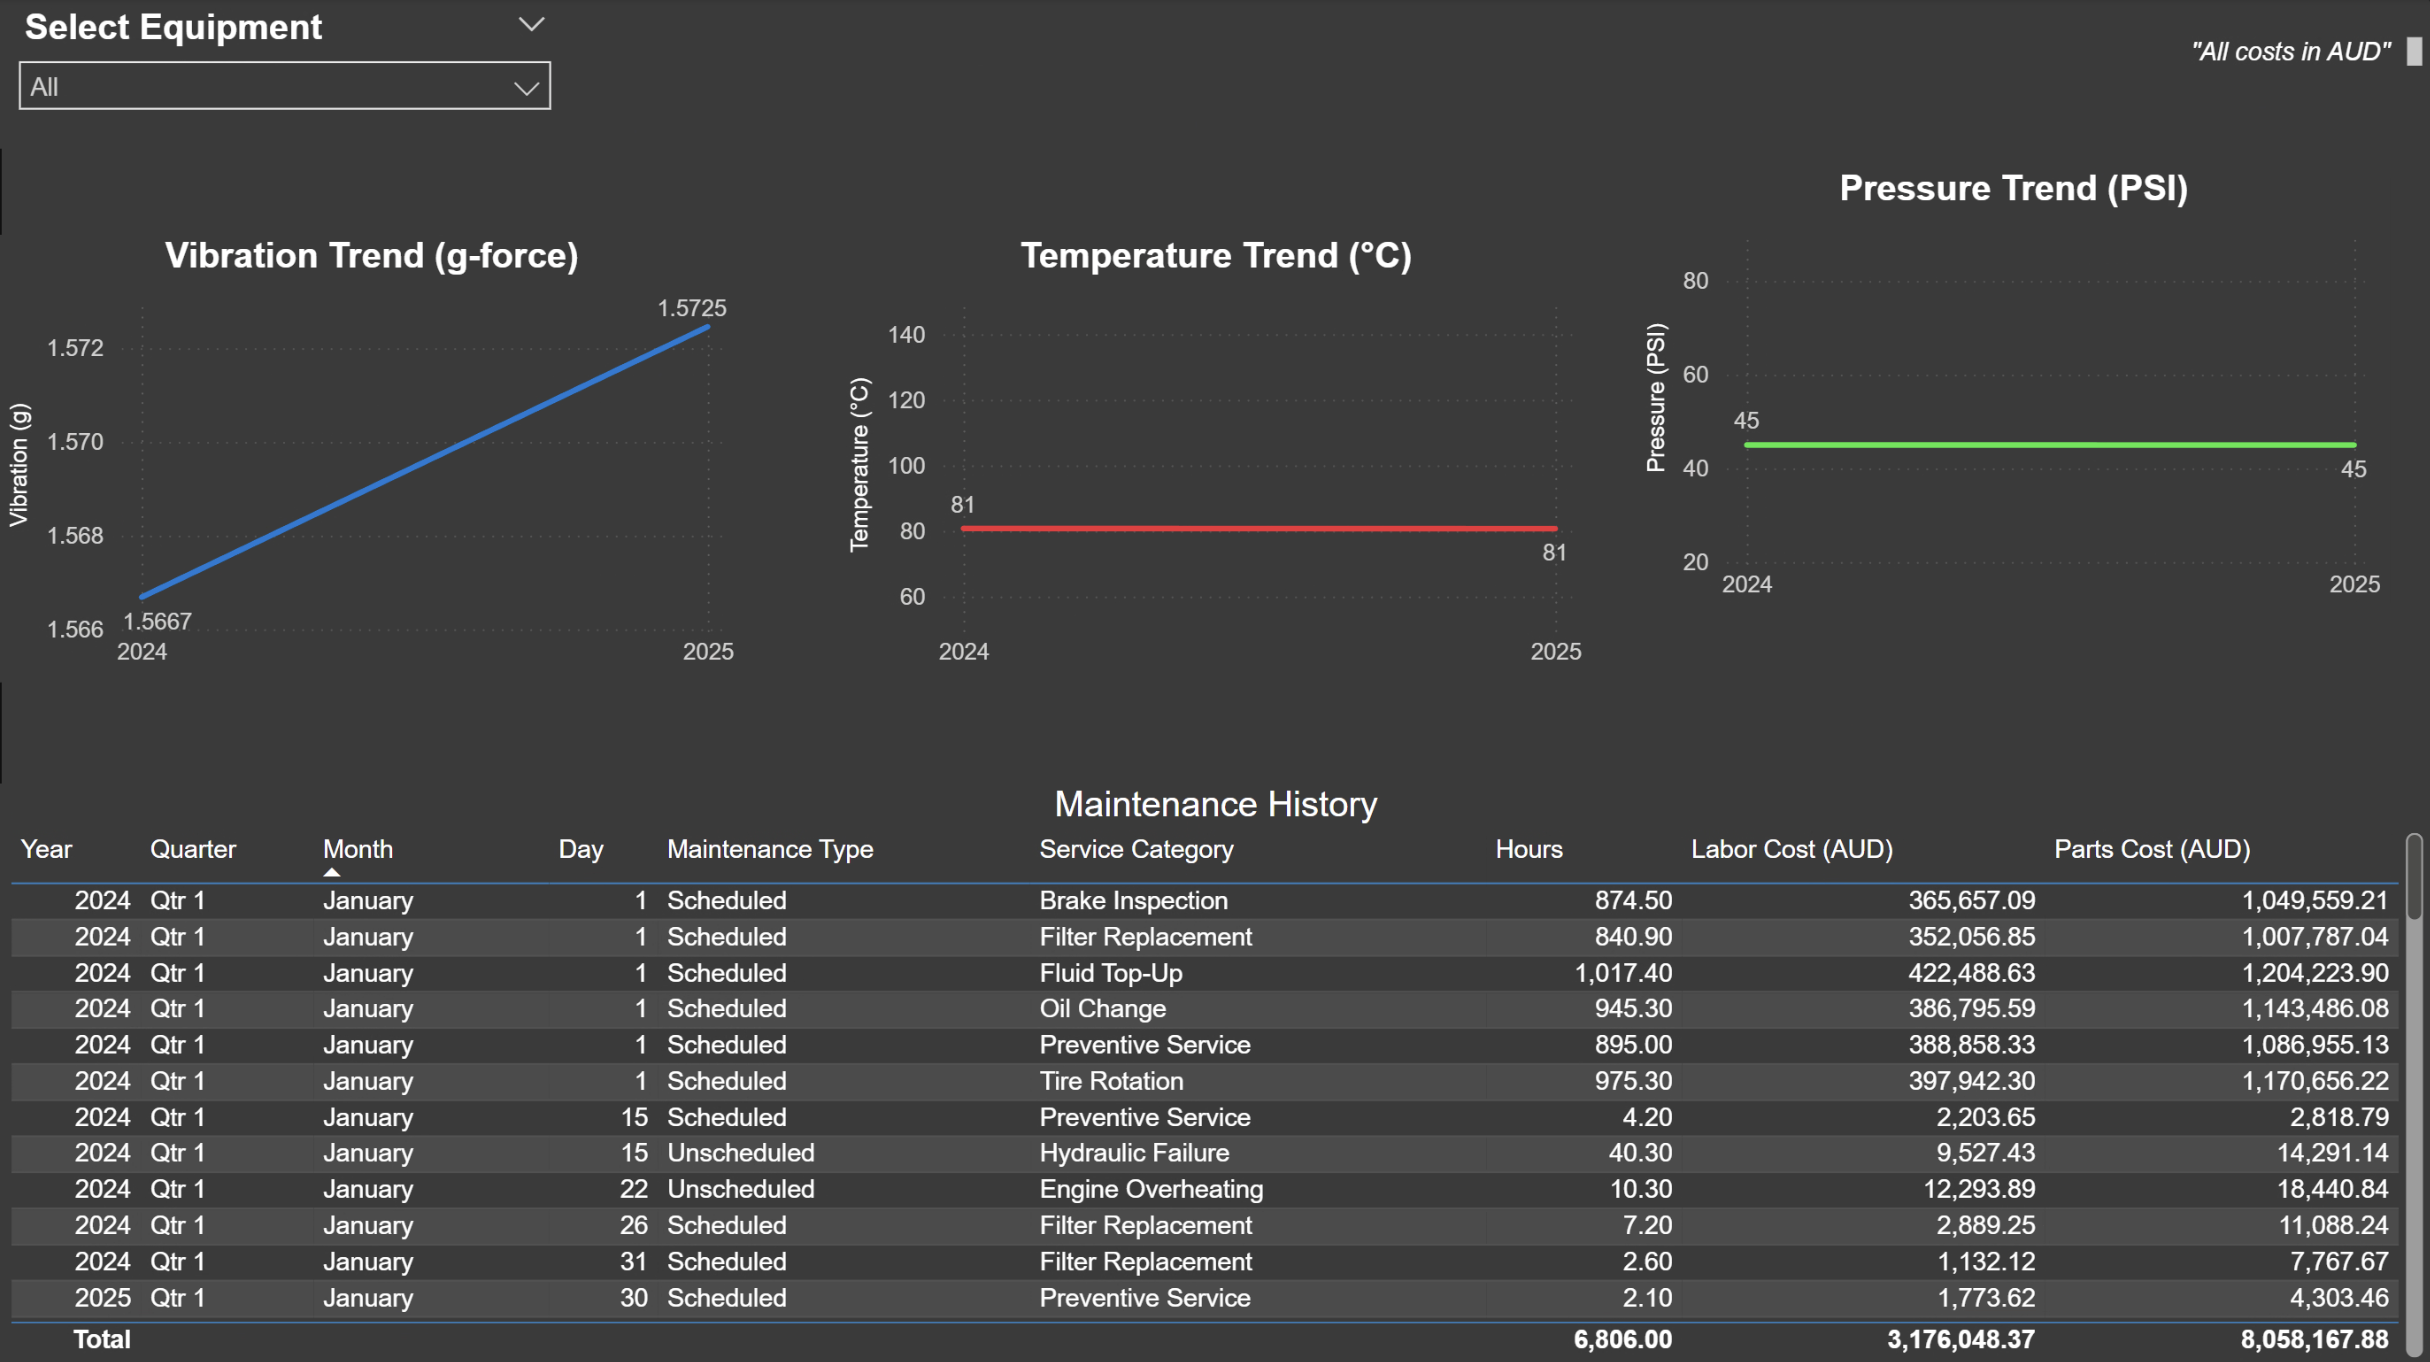

Layout of this report page (visuals, bound fields, positions):
{"tool":"powerbi","page":{"name":"Equipment Deep-Dive","canvas":[1280,720],"ordinal":1},"visuals":[{"type":"slicer","fields":{"Values":["dim_equipment.equipment_id"]},"box":[0,0,299.8,79.7],"z":0},{"type":"lineChart","title":"Vibration Trend (g-force)","fields":{"Category":["fact_sensor_readings.timestamp.Variation.Date Hierarchy.Year","fact_sensor_readings.timestamp.Variation.Date Hierarchy.Quarter","fact_sensor_readings.timestamp.Variation.Date Hierarchy.Month","fact_sensor_readings.timestamp.Variation.Date Hierarchy.Day"],"Y":["Avg(fact_sensor_readings.vibration_g)"]},"box":[0,124.9,391.4,235.5],"z":1000},{"type":"lineChart","title":"Temperature Trend (°C)","fields":{"Category":["fact_sensor_readings.timestamp.Variation.Date Hierarchy.Year","fact_sensor_readings.timestamp.Variation.Date Hierarchy.Quarter","fact_sensor_readings.timestamp.Variation.Date Hierarchy.Month","fact_sensor_readings.timestamp.Variation.Date Hierarchy.Day"],"Y":["Avg(fact_sensor_readings.temperature_c)"]},"box":[442.5,124.9,394.9,235.5],"z":2000},{"type":"lineChart","title":"Pressure Trend (PSI)","fields":{"Category":["fact_sensor_readings.timestamp.Variation.Date Hierarchy.Year","fact_sensor_readings.timestamp.Variation.Date Hierarchy.Quarter","fact_sensor_readings.timestamp.Variation.Date Hierarchy.Month","fact_sensor_readings.timestamp.Variation.Date Hierarchy.Day"],"Y":["Avg(fact_sensor_readings.pressure_psi)"]},"box":[861.3,89.2,396.1,235.5],"z":3000},{"type":"tableEx","title":"Maintenance History","fields":{"Values":["fact_maintenance.maintenance_date.Variation.Date Hierarchy.Year","fact_maintenance.maintenance_date.Variation.Date Hierarchy.Quarter","fact_maintenance.maintenance_date.Variation.Date Hierarchy.Month","fact_maintenance.maintenance_date.Variation.Date Hierarchy.Day","fact_maintenance.maintenance_type","fact_maintenance.service_category","Sum(fact_maintenance.duration_hours)","Sum(fact_maintenance.labor_cost)","Sum(fact_maintenance.parts_cost)"]},"box":[0,414,1280,306.9],"z":4000},{"type":"textbox","box":[1148,15.5,132,25],"z":4001}]}

Visuals, with their boxes in screenshot pixels (x1, y1, x2, y2), scaled from the page's 1280x720 canvas onto the 2430x1362 screenshot:
slicer - dim_equipment.equipment_id: l=0, t=0, r=569, b=151
"Vibration Trend (g-force)" lineChart: l=0, t=236, r=743, b=682
"Temperature Trend (°C)" lineChart: l=840, t=236, r=1590, b=682
"Pressure Trend (PSI)" lineChart: l=1635, t=169, r=2387, b=614
"Maintenance History" tableEx: l=0, t=783, r=2429, b=1361
textbox: l=2179, t=29, r=2429, b=77
